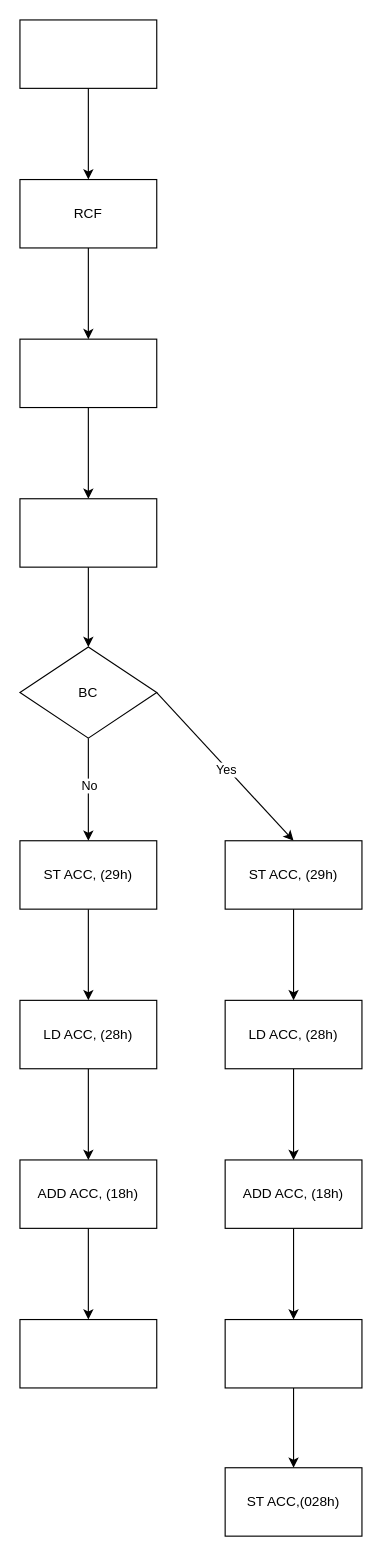
The diagram is 382 pixels wide and 1556 high, and some of its shapes have lost their labels. The centre of each missing label's shape, as x and y in pixels:
ADC ACC,(19h): the point at 88,532
ADD ACC, 01h: the point at 293,1353
ADD_MEMS: the point at 88,53
LD ACC,(29h): the point at 88,373
ST ACC, (28h): the point at 88,1353
